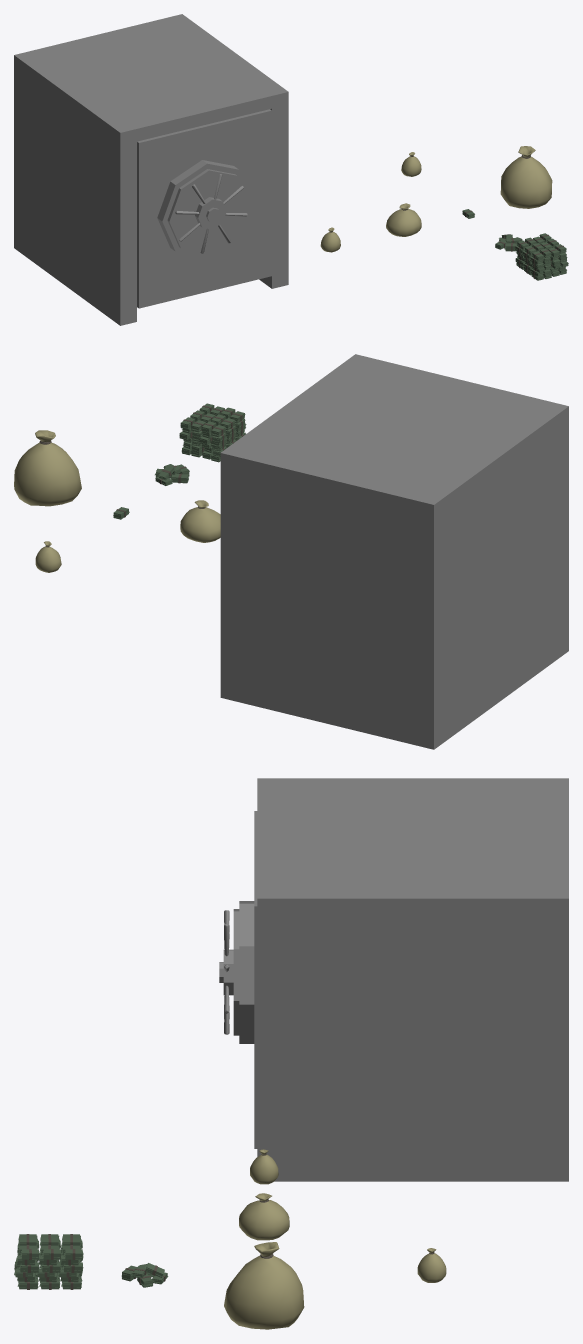
File: retopo.fbx
3 views of the same model, one above another, from view 1: azimuth 30°, elevation 25°; view 2: azimuth 150°, elevation 25°; view 3: azimuth 270°, elevation 25° (orthographic). The views are drawn at different scales.
Parts seen in each view (by area): view 1: MSH_cassaforte, MSH_cassaforte_porta, MSH_sacco_soldi_vuoto_02, MSH_gruppo_banconote, MSH_sacco_soldi_vuoto_03; view 2: MSH_cassaforte, MSH_sacco_soldi_vuoto_02, MSH_gruppo_banconote, MSH_sacco_soldi_vuoto_03, MSH_soldi_mucchio, MSH_sacco_soldi_vuoto_04; view 3: MSH_cassaforte, MSH_cassaforte_porta, MSH_sacco_soldi_vuoto_02, MSH_gruppo_banconote, MSH_sacco_soldi_vuoto_03, MSH_soldi_mucchio, MSH_sacco_soldi_vuoto_04.001, MSH_sacco_soldi_vuoto_04.
Part boxes in pixels (x1,y1,x2,y2): MSH_cassaforte: [14, 14, 288, 325]; MSH_cassaforte_porta: [137, 109, 271, 308]; MSH_sacco_soldi_vuoto_02: [500, 146, 552, 208]; MSH_gruppo_banconote: [515, 233, 568, 280]; MSH_sacco_soldi_vuoto_03: [386, 203, 421, 236]; MSH_cassaforte: [220, 354, 568, 749]; MSH_sacco_soldi_vuoto_02: [14, 430, 81, 506]; MSH_gruppo_banconote: [179, 403, 246, 462]; MSH_sacco_soldi_vuoto_03: [180, 500, 220, 542]; MSH_soldi_mucchio: [155, 464, 189, 485]; MSH_sacco_soldi_vuoto_04: [35, 541, 61, 572]; MSH_cassaforte: [257, 778, 568, 1181]; MSH_cassaforte_porta: [219, 811, 257, 1148]; MSH_sacco_soldi_vuoto_02: [224, 1242, 304, 1329]; MSH_gruppo_banconote: [14, 1234, 83, 1289]; MSH_sacco_soldi_vuoto_03: [239, 1193, 289, 1240]; MSH_soldi_mucchio: [121, 1263, 168, 1287]; MSH_sacco_soldi_vuoto_04.001: [250, 1149, 278, 1184]; MSH_sacco_soldi_vuoto_04: [417, 1248, 446, 1282].
Size of the model in its own units: 726 by 311 by 552.
